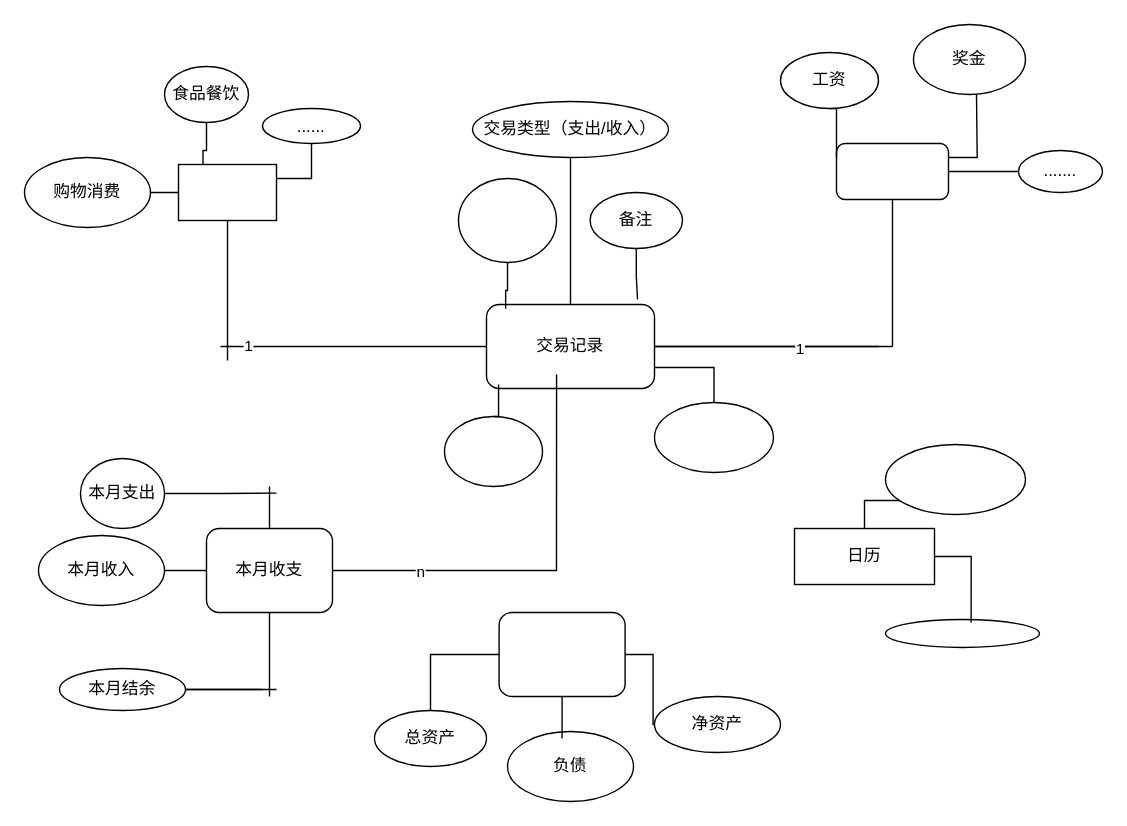
The diagram is 1127 pixels wide and 826 high, and some of its shapes have lost their labels. Here are the shapes that lost their labels. From the top down, the centre of each, then its label:
the point at 226,191: 支出类别
the point at 891,171: 收入类别
the point at 506,219: 日期时间
the point at 492,450: 金额
the point at 713,436: 图片
the point at 955,478: 日期（年月日）
the point at 561,653: 资产
the point at 962,633: 当日支出金额
